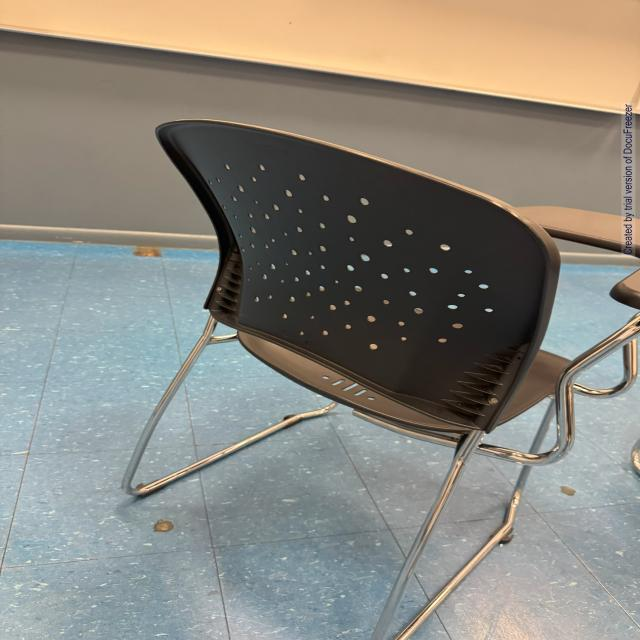chair: (124, 97, 639, 640)
